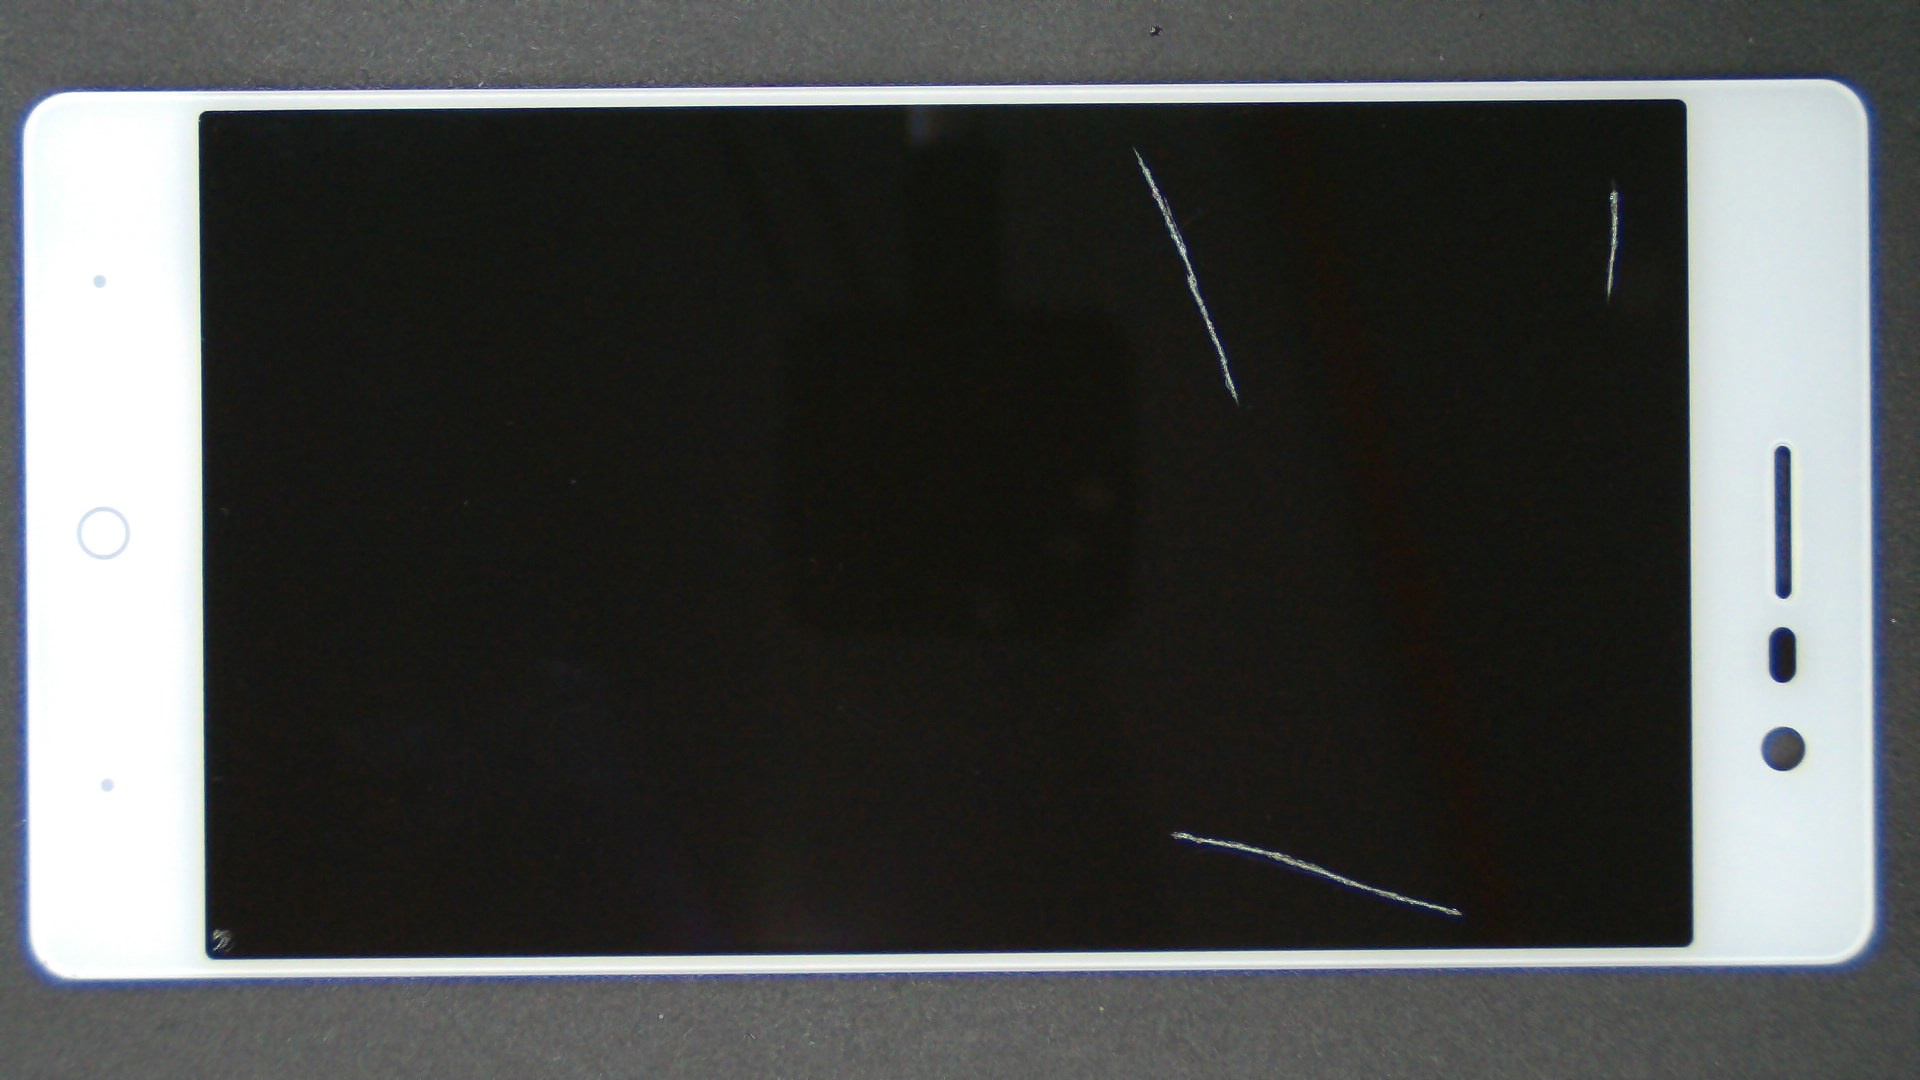oil: (589, 414, 1763, 1080), (806, 84, 1920, 276), (568, 71, 1701, 220), (111, 463, 330, 1080)
